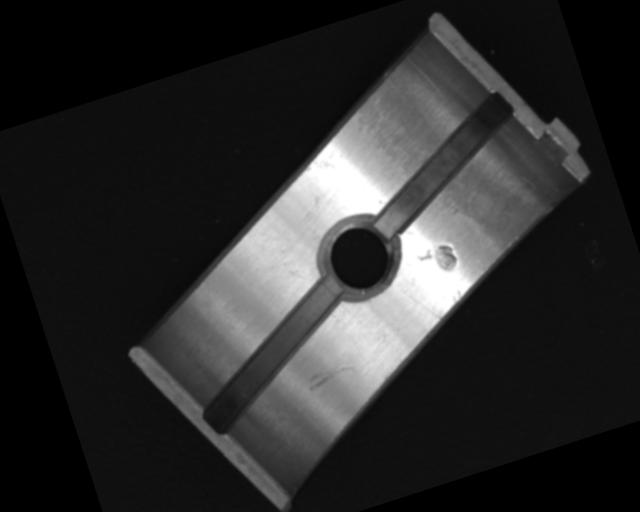bruise: (414, 240, 461, 281)
gap: (178, 274, 370, 436), (349, 91, 538, 240)
hole: (313, 208, 406, 308)
nick: (303, 357, 362, 393)
